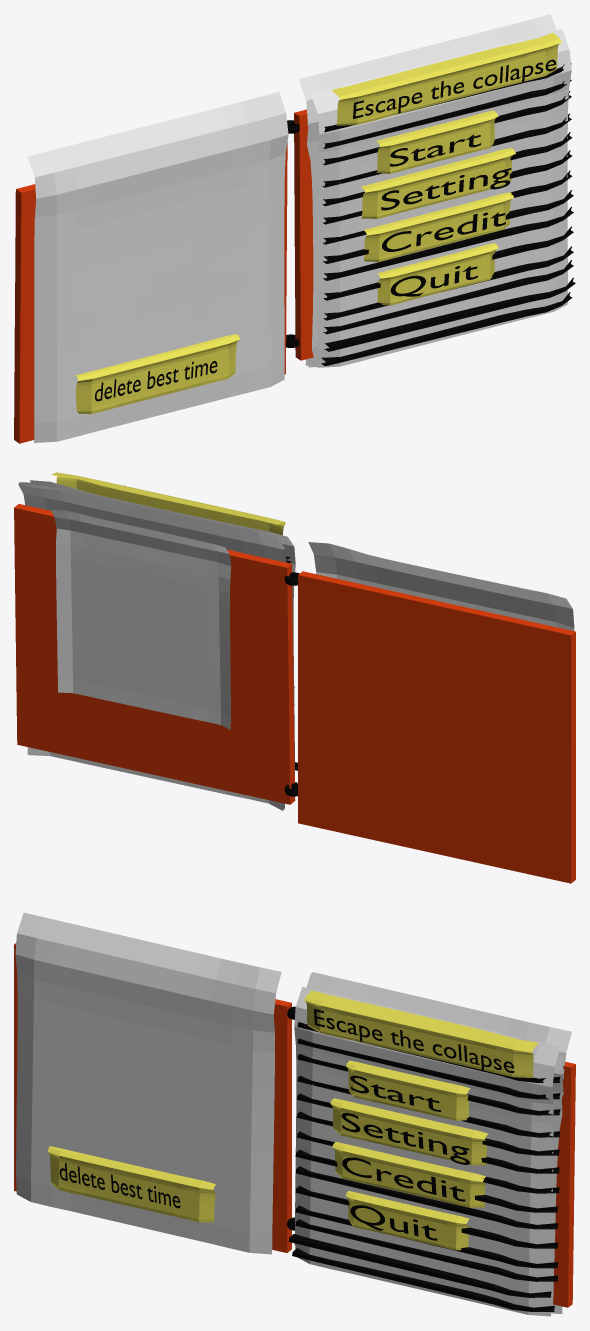
Rendered from Book.fbx.
3 views of the same model, one above another, from view 1: azimuth 30°, elevation 25°; view 2: azimuth 150°, elevation 25°; view 3: azimuth 330°, elevation 25° (orthographic).
Visible parts, largest first — view 1: Plane.024, Plane.004, Plane.023, Plane.025, Cube.003, Plane.010, Plane.011, Plane.001, Cube.001, Plane.009, Plane.012, Plane (+19 smaller); view 2: Cube.003, Cube.001, Plane.003, Plane.024, Plane.002, Plane.023, Plane.004, Plane.001; view 3: Plane.024, Plane.004, Plane.023, Plane.025, Cube.003, Plane.010, Plane.011, Plane.001, Cube.001, Plane.009, Plane.012, Plane.007 (+19 smaller).
Part boxes in pixels (box(x1,y1,x2,y2)): Plane.024: box(27, 91, 288, 442); Plane.004: box(311, 29, 571, 367); Plane.023: box(332, 33, 561, 125); Plane.025: box(75, 334, 240, 414); Cube.003: box(14, 123, 287, 443); Plane.010: box(361, 148, 515, 218); Plane.011: box(364, 192, 513, 261); Plane.001: box(300, 14, 556, 365); Cube.001: box(294, 109, 313, 360); Plane.009: box(376, 110, 498, 173); Plane.012: box(377, 243, 498, 305); Plane: box(299, 70, 359, 367); Cube.003: box(298, 571, 575, 883); Cube.001: box(14, 504, 295, 804); Plane.003: box(51, 510, 231, 729); Plane.024: box(308, 542, 574, 630); Plane.002: box(18, 483, 283, 810); Plane.023: box(51, 472, 285, 535); Plane.004: box(30, 480, 295, 774); Plane.001: box(19, 482, 285, 808); Plane.024: box(15, 912, 281, 1254); Plane.004: box(294, 987, 560, 1316); Plane.023: box(304, 990, 538, 1077); Plane.025: box(47, 1146, 215, 1222); Cube.003: box(14, 943, 291, 1252); Plane.010: box(330, 1098, 487, 1165); Plane.011: box(332, 1142, 485, 1207); Plane.001: box(307, 972, 570, 1313); Cube.001: box(294, 1061, 575, 1307); Plane.009: box(346, 1060, 470, 1120); Plane.012: box(345, 1191, 469, 1250); Plane.007: box(288, 1234, 551, 1297).
Size of the model in its own units: 840 by 414 by 112.
